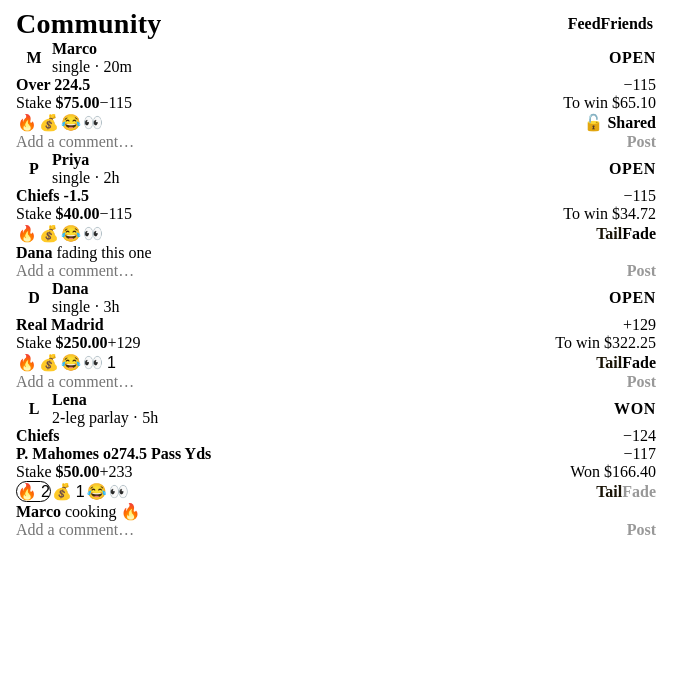
Test: CommunitySection › tails a friend’s slip → a REAL core-routed bet (the figure moves)
Step 1. Click the button "Tail" below "Won $166.40" → (609, 492), box [596,482,622,500]
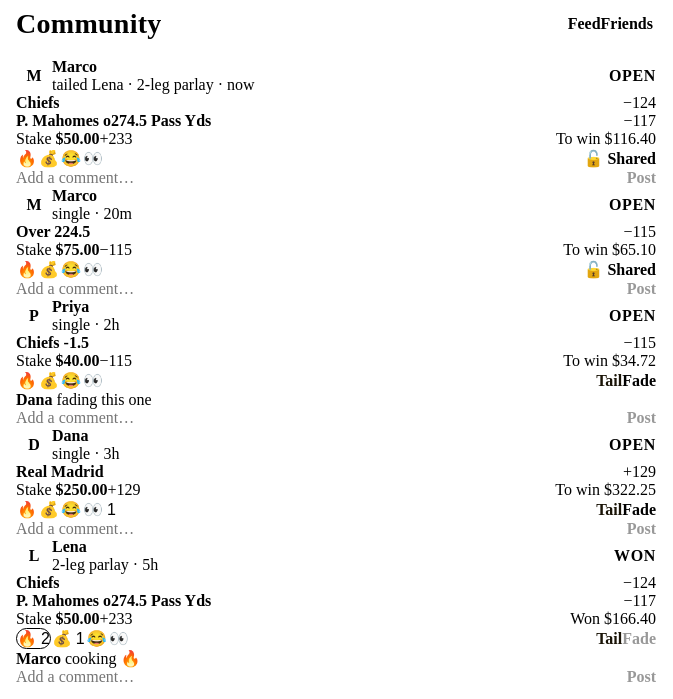
Result: the text "tailed Lena" is shown at [52,76,137,93]
